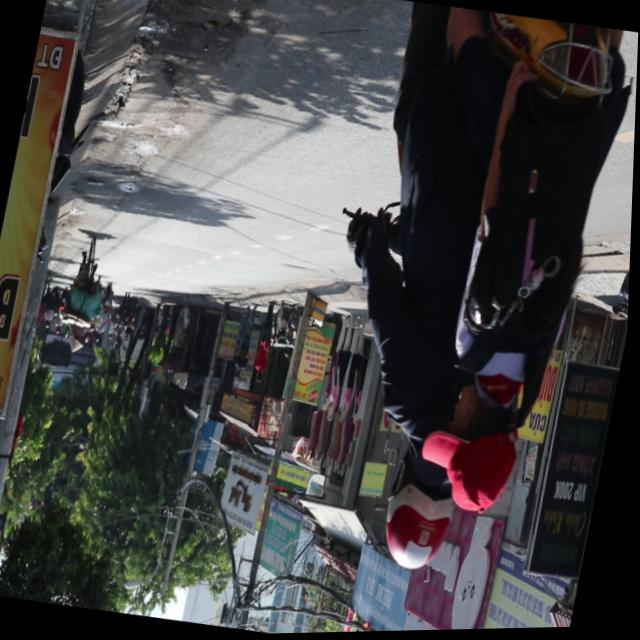helmet: (377, 444, 473, 581)
licenseplate: (301, 0, 640, 607)
motorcyclist: (414, 349, 546, 524)
